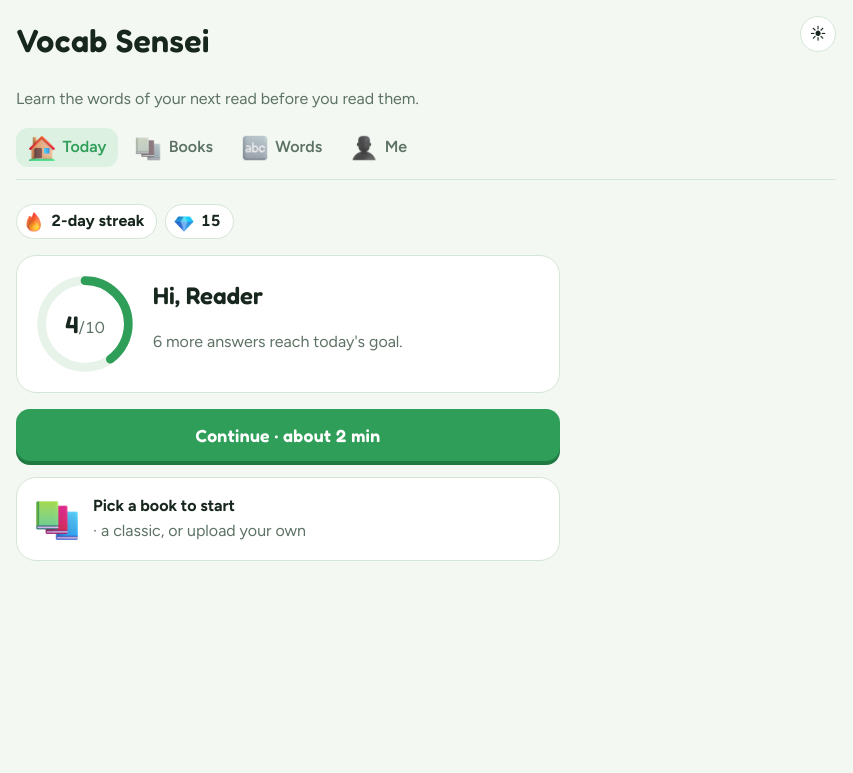
Test: Me tab › leads to the progress page
The width and height of the screenshot is (853, 773).
Step 1. Click the link "Me" → click(379, 148), box [350,134,407,162]
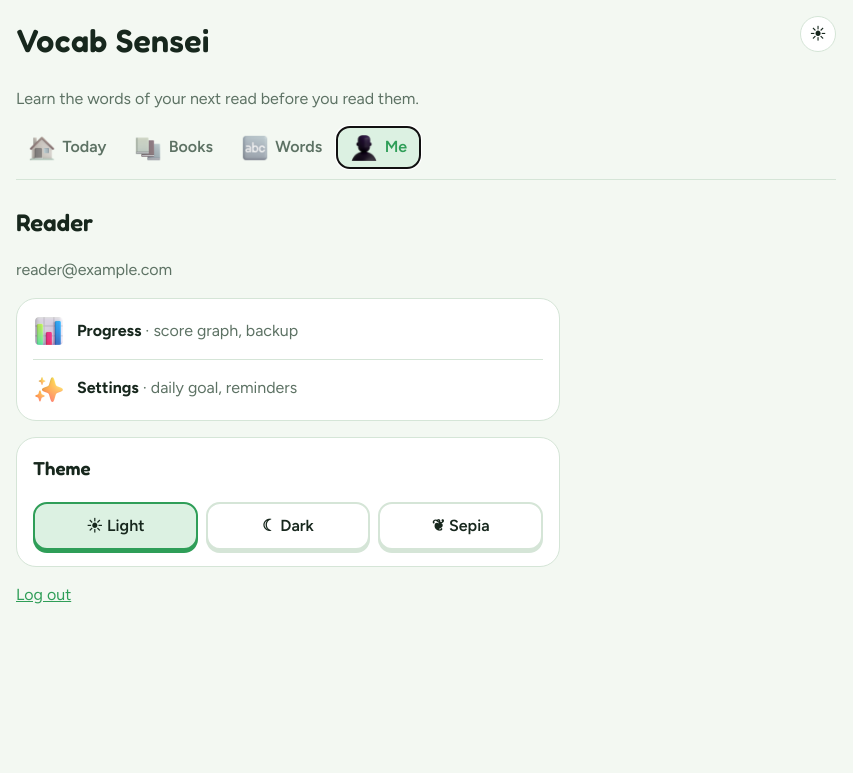
Step 2. Click the link "Progress · score graph, backup" → click(166, 331), box [33,315,298,347]
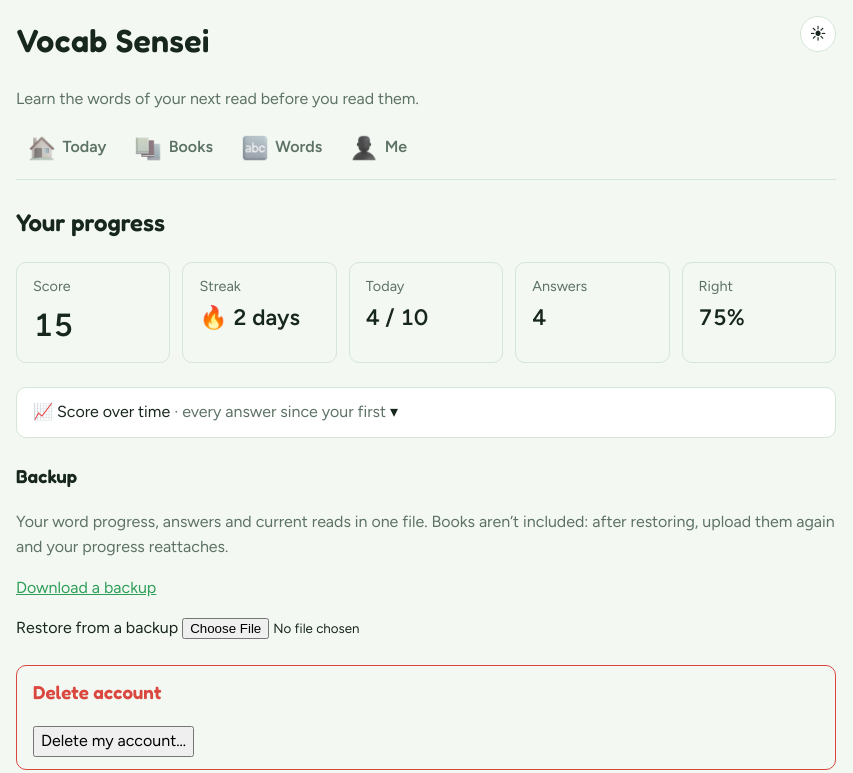
Expected: the heading "Your progress" is shown, [16,208,165,238]
